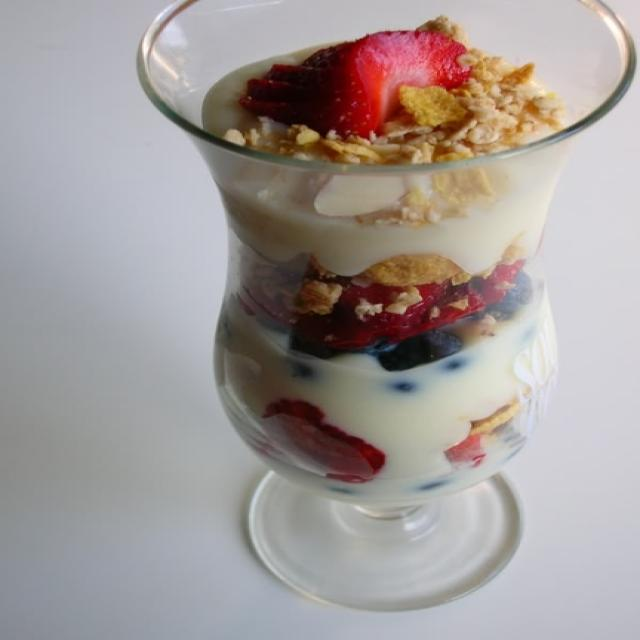蛋糕甜品: (31, 8, 627, 610)
